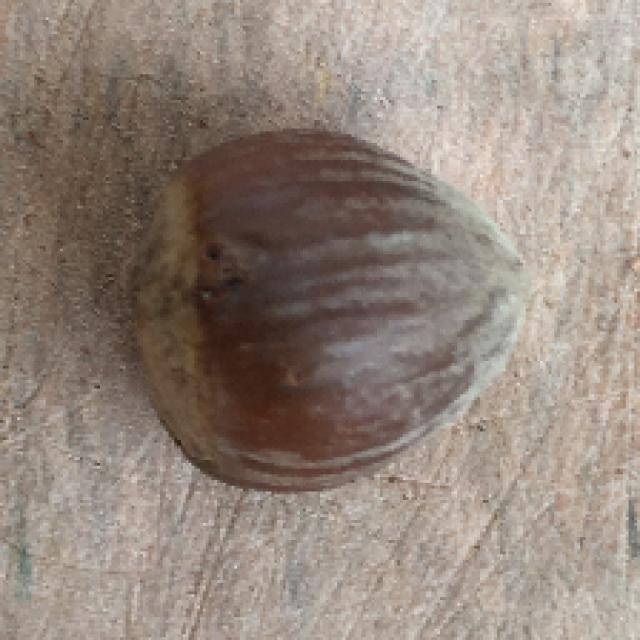qualityHazelnut: (129, 126, 532, 499)
